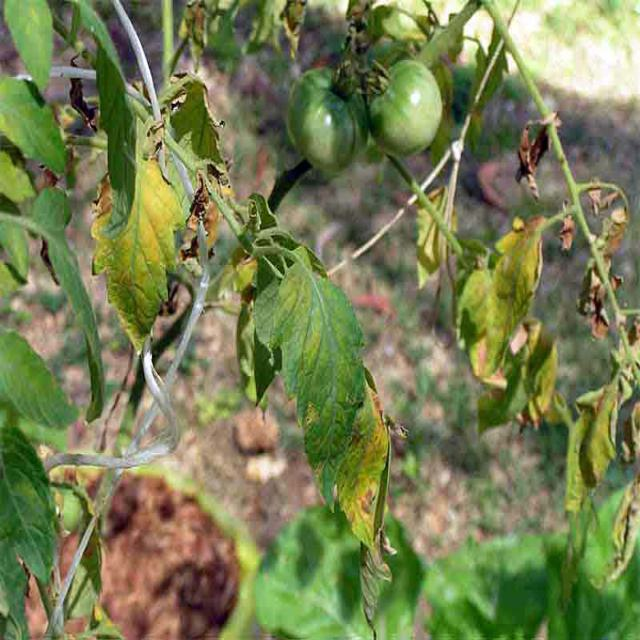Leaf_Mold: (92, 155, 184, 356), (462, 215, 543, 387), (331, 384, 392, 541), (414, 181, 457, 283), (519, 339, 564, 432)
